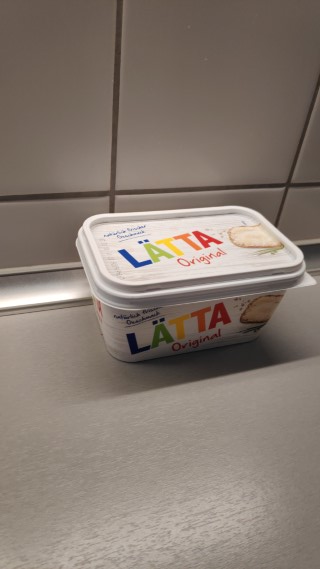laetta: (74, 205, 316, 363)
